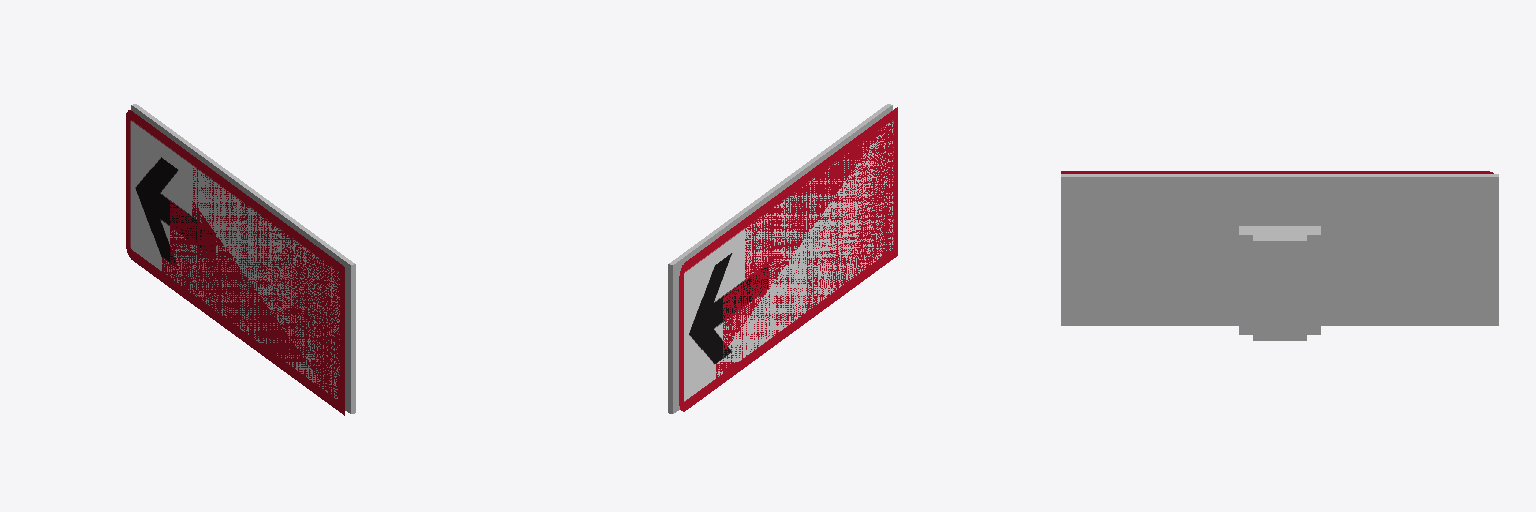
3 views of the same model, side by side, from view 1: azimuth 30°, elevation 25°; view 2: azimuth 150°, elevation 25°; view 3: azimuth 270°, elevation 25° (orthographic).
Parts seen in each view (by area): view 1: cube; view 2: cube; view 3: cube.
Part boxes in pixels (x1,y1,x2,y2): cube: (126, 104, 355, 415); cube: (668, 104, 897, 413); cube: (1061, 171, 1498, 340).
Size of the model in its own units: 0.0547 by 0.1875 by 0.5.
2 materials, 1 textured.